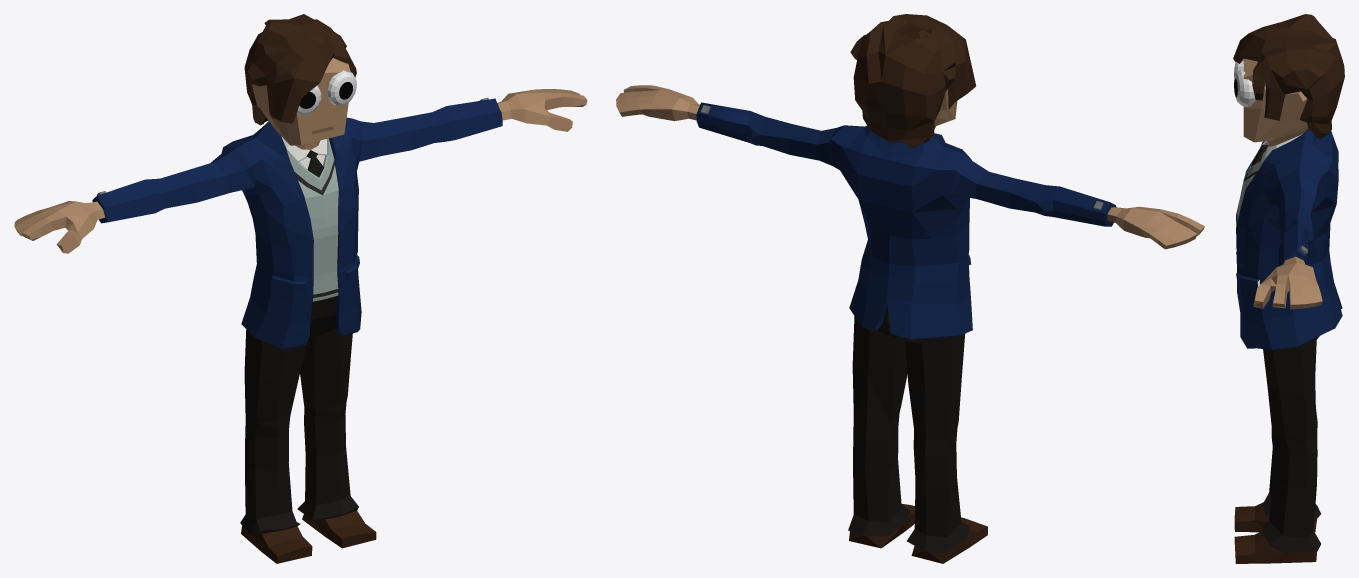
The model's file is male_npc.fbx.
3 views of the same model, side by side, from view 1: azimuth 30°, elevation 25°; view 2: azimuth 150°, elevation 25°; view 3: azimuth 270°, elevation 25° (orthographic). The views are drawn at different scales.
Parts seen in each view (by area): view 1: Character_SchoolBoy_01.002; view 2: Character_SchoolBoy_01.002; view 3: Character_SchoolBoy_01.002.
Part boxes in pixels (x1,y1,x2,y2): Character_SchoolBoy_01.002: [14, 14, 587, 563]; Character_SchoolBoy_01.002: [616, 14, 1204, 563]; Character_SchoolBoy_01.002: [1233, 14, 1344, 563].
Size of the model in its own units: 216 by 187 by 36.85.
1 material, 1 textured.
